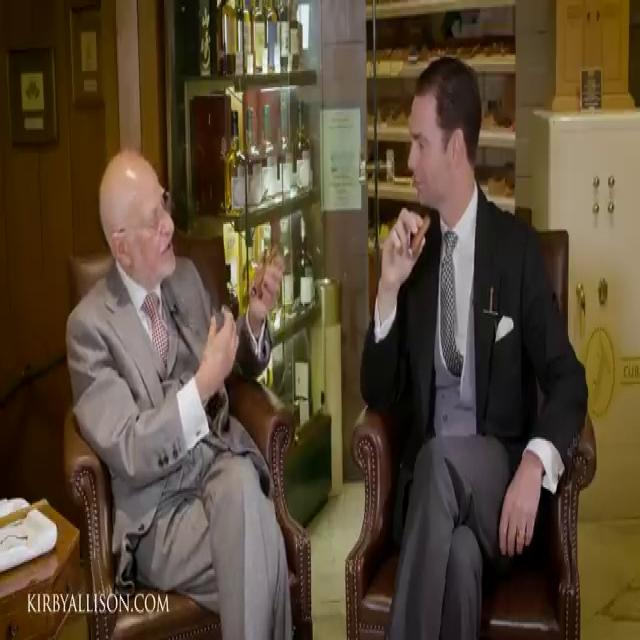Smooking: (404, 212, 436, 259)
